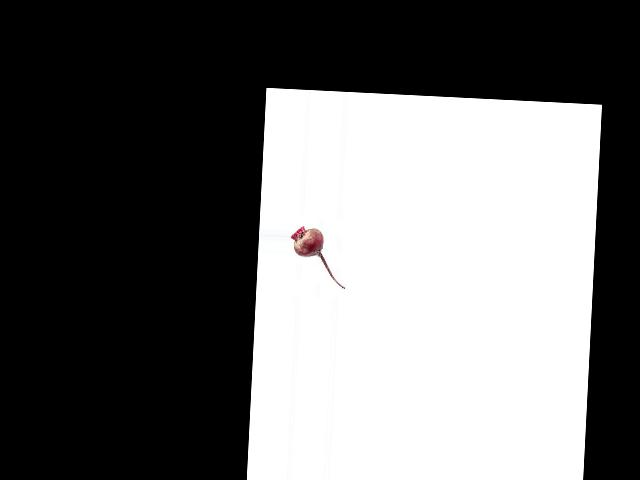beet: (288, 226, 348, 289)
